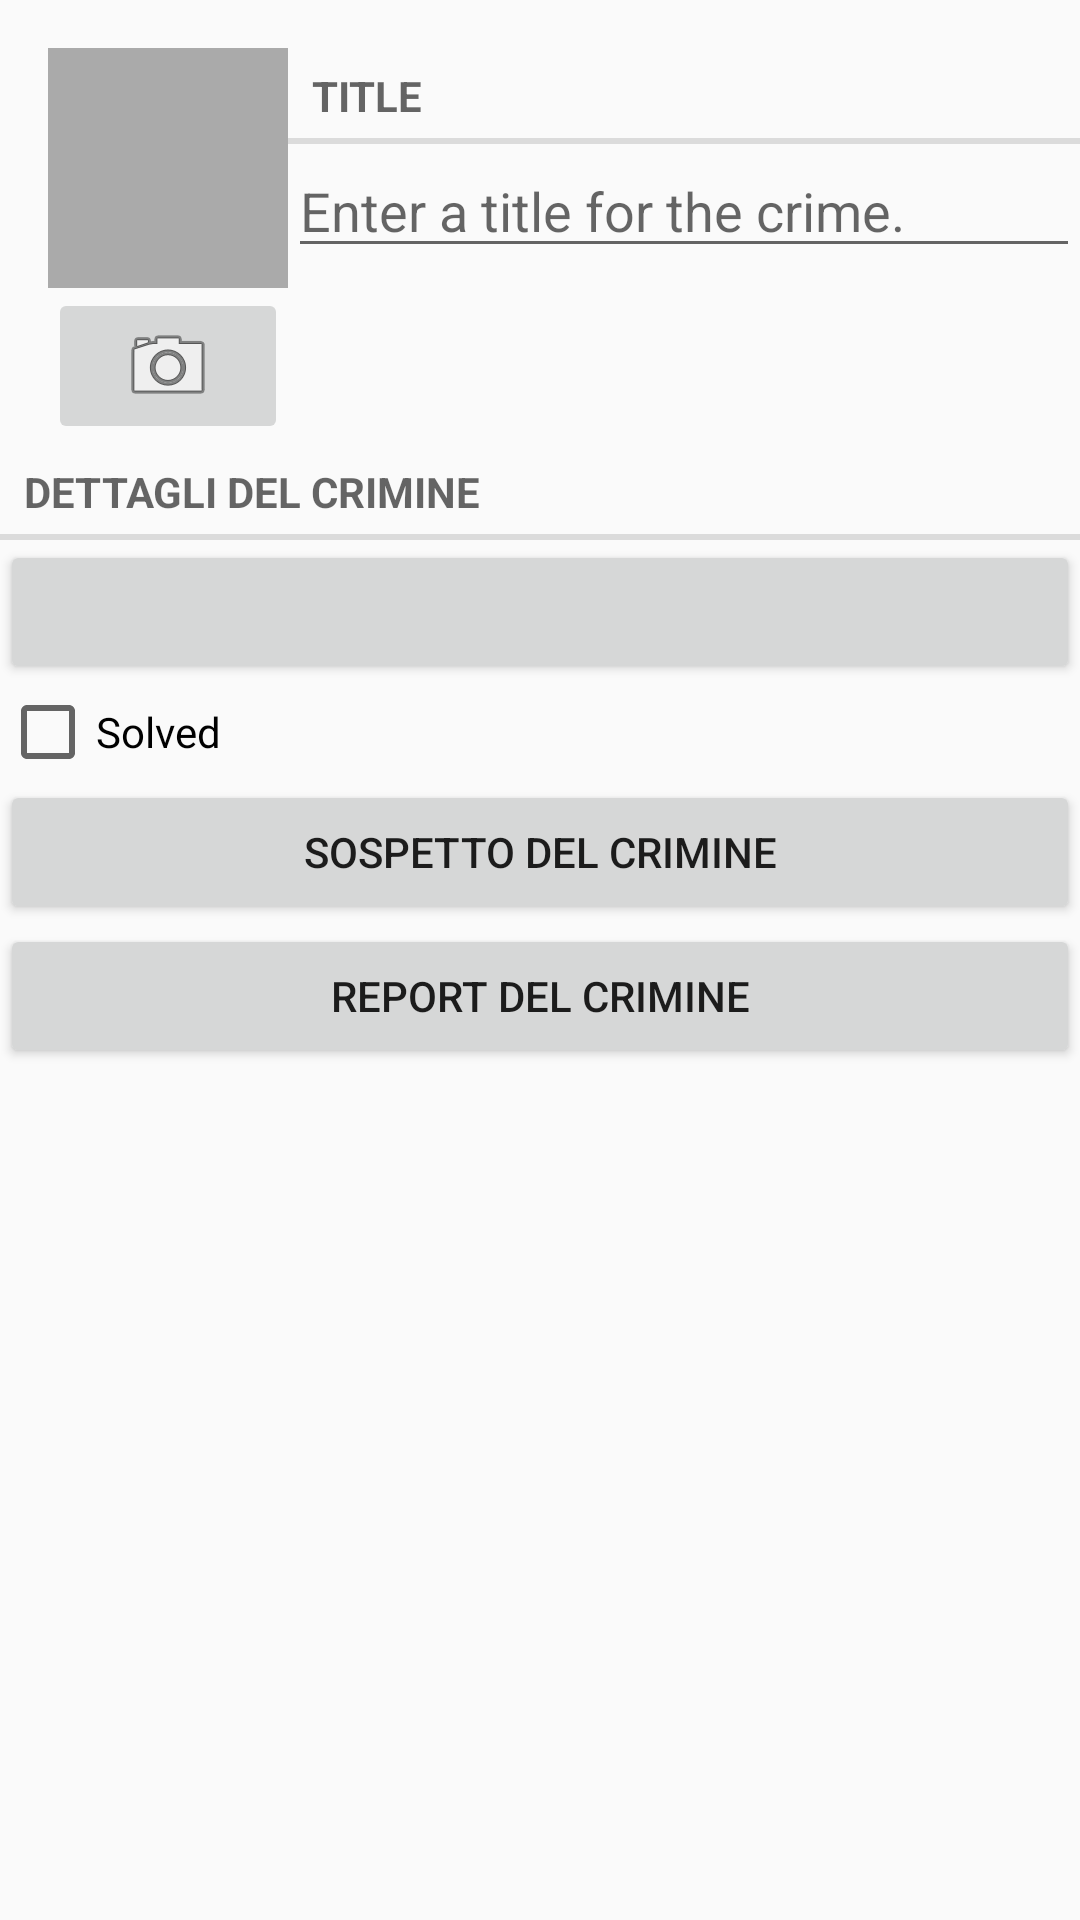

Locate icon controls on the screen. Image size 1080x1920, boxes as (x1, y1, x2, y2).
camera: (60, 306, 276, 426)
